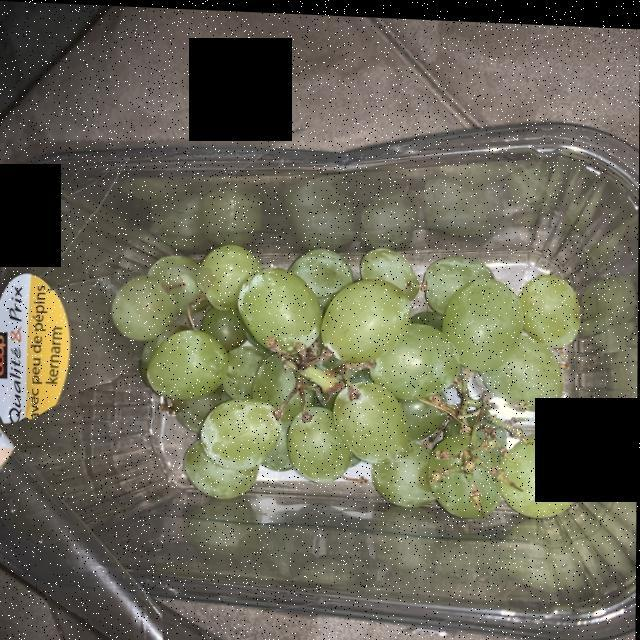grapes: (119, 248, 582, 508)
